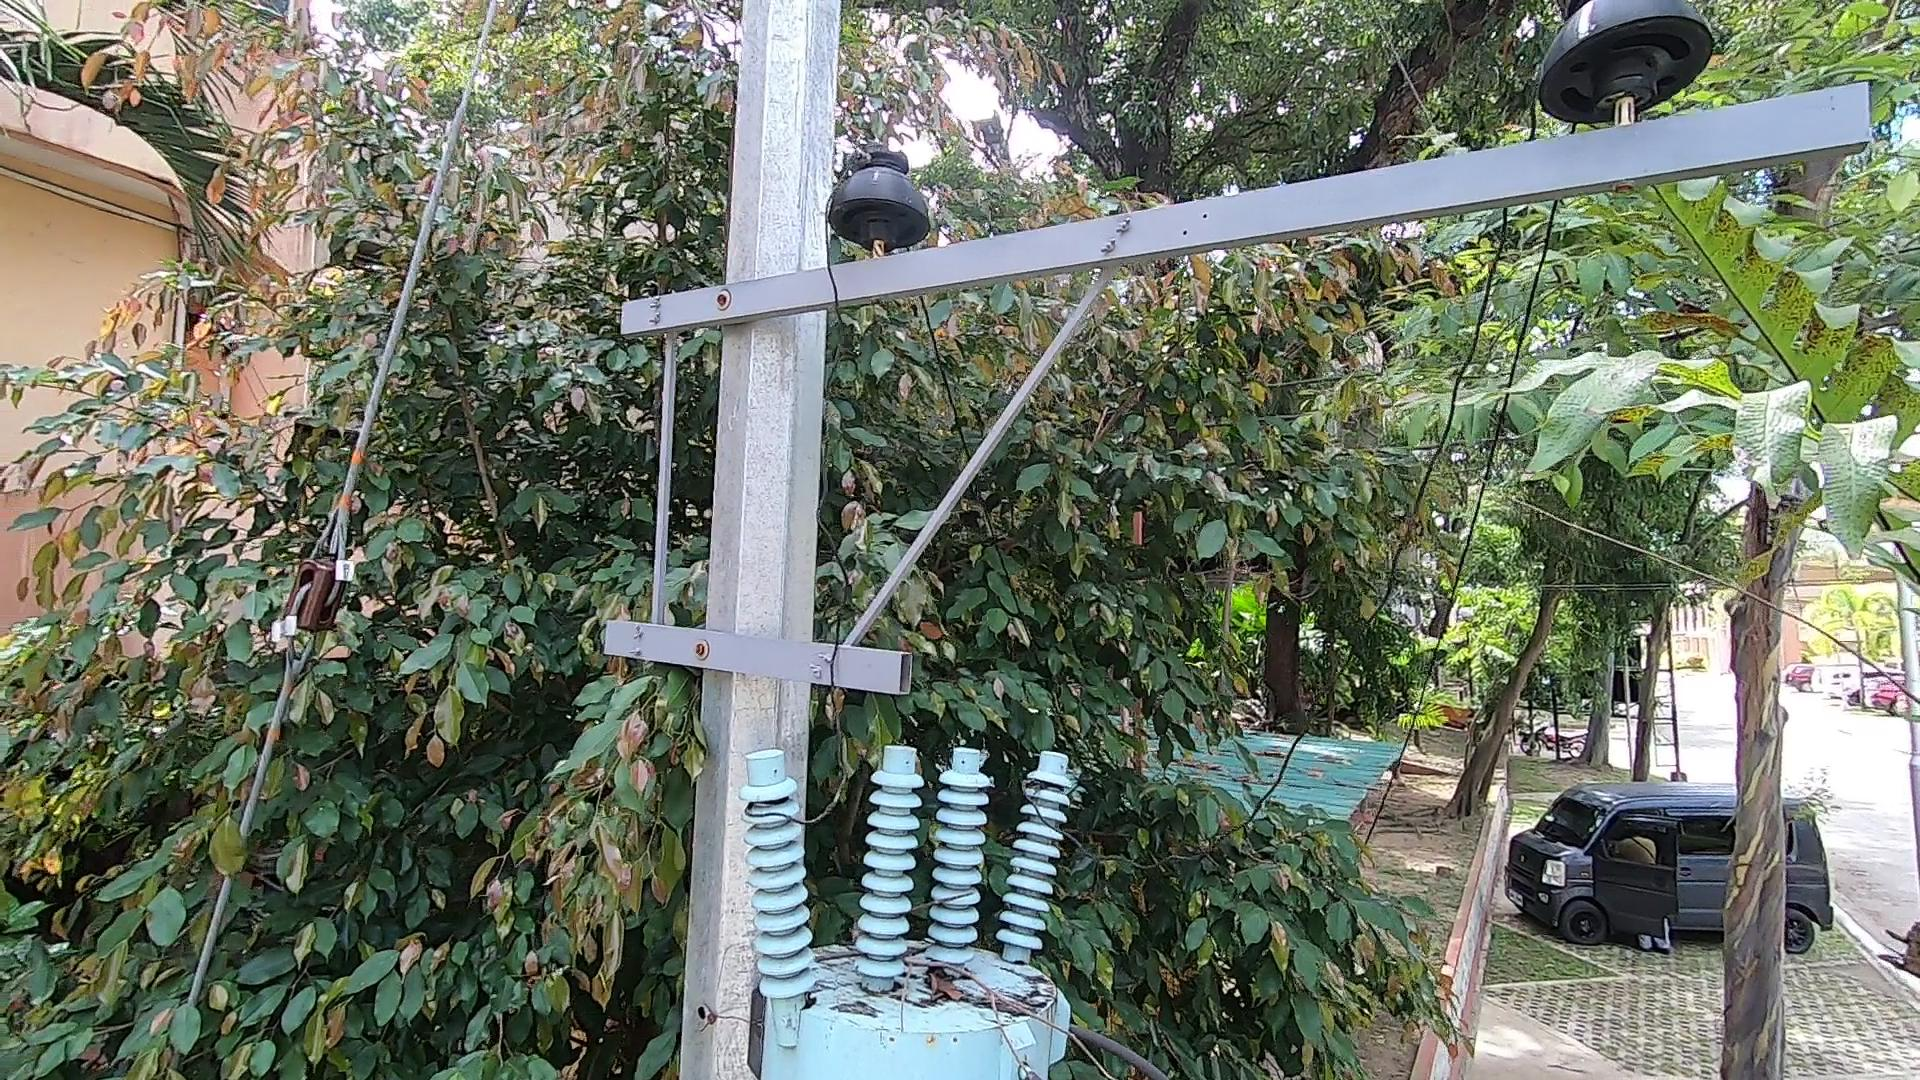leaf: (899, 955, 963, 1004)
tree branch: (799, 928, 1174, 1080)
